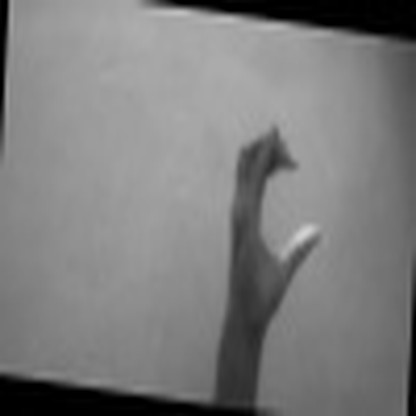c: (224, 110, 331, 313)
